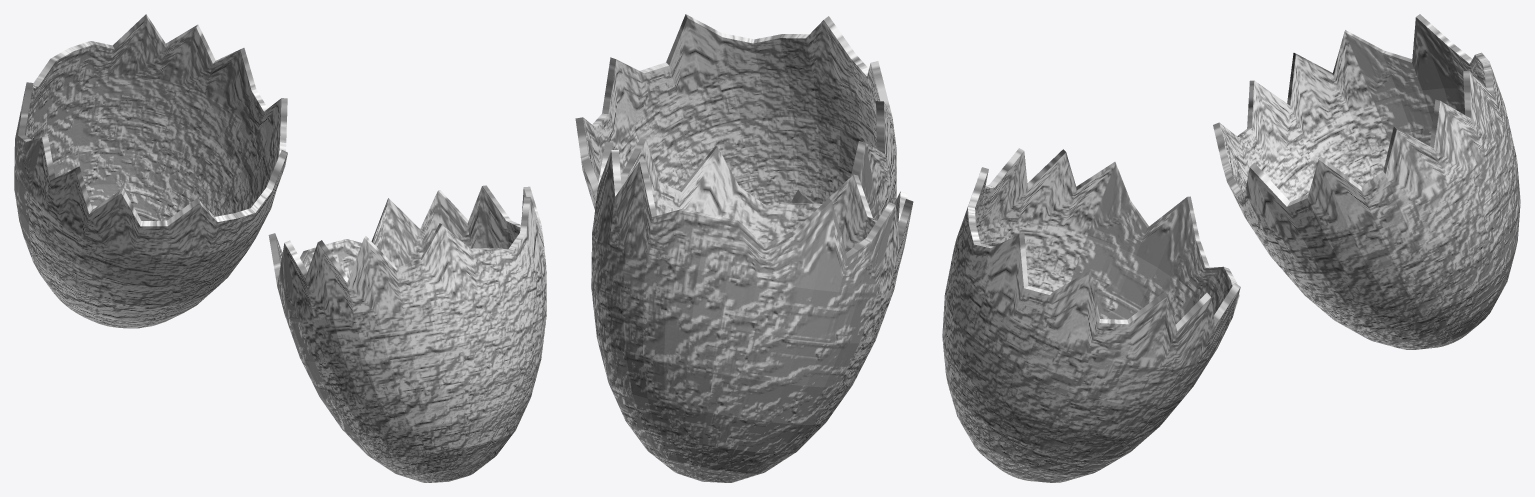
The model's file is cascaronHuevo.fbx.
3 views of the same model, side by side, from view 1: azimuth 30°, elevation 25°; view 2: azimuth 150°, elevation 25°; view 3: azimuth 270°, elevation 25° (orthographic). The views are drawn at different scales.
Parts seen in each view (by area): view 1: Esfera.001, Esfera; view 2: Esfera.001, Esfera; view 3: Esfera.001, Esfera.
Boxes of the visible parts, <box> form: Esfera.001: <box>14,14,287,328</box>; Esfera: <box>268,185,546,482</box>; Esfera.001: <box>591,138,913,482</box>; Esfera: <box>575,14,896,220</box>; Esfera.001: <box>1213,14,1520,349</box>; Esfera: <box>942,148,1240,482</box>.
Size of the model in its own units: 490 by 428 by 626.
1 material, 1 textured.
